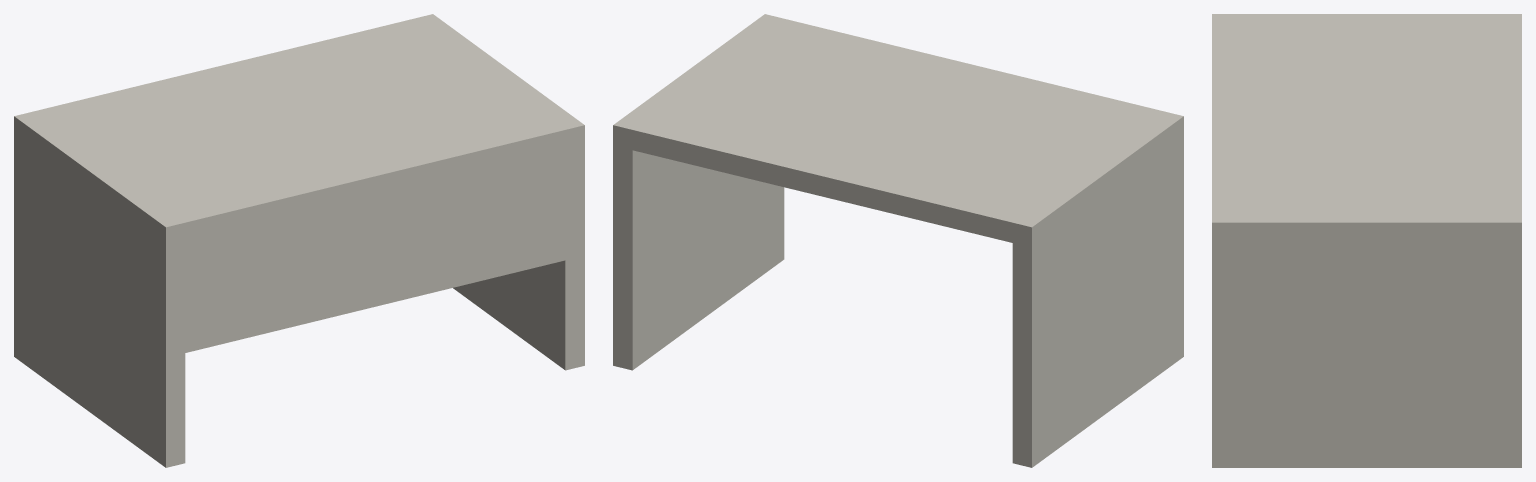
Rendered from white_table5.fbx.
3 views of the same model, side by side, from view 1: azimuth 30°, elevation 25°; view 2: azimuth 150°, elevation 25°; view 3: azimuth 270°, elevation 25° (orthographic). The views are drawn at different scales.
Visible parts, largest first — view 1: Cube; view 2: Cube; view 3: Cube.
Boxes of the visible parts, <box> form: Cube: <box>14,14,584,467</box>; Cube: <box>613,14,1183,467</box>; Cube: <box>1212,14,1521,467</box>.
Bounding box in the file's own units: 430 × 236 × 270.
